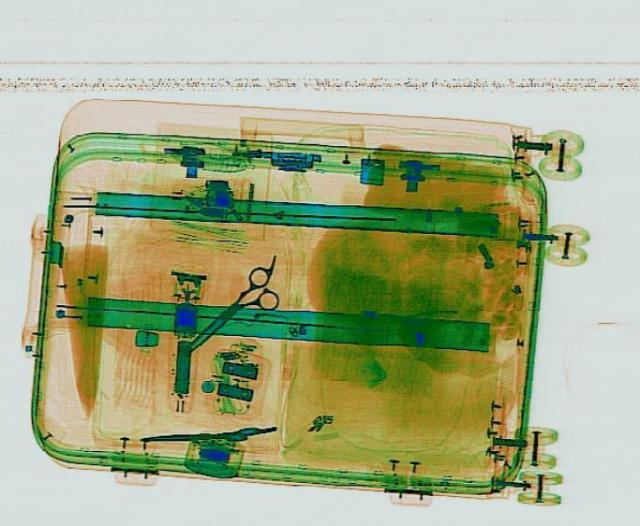Scissors: (166, 262, 298, 362)
